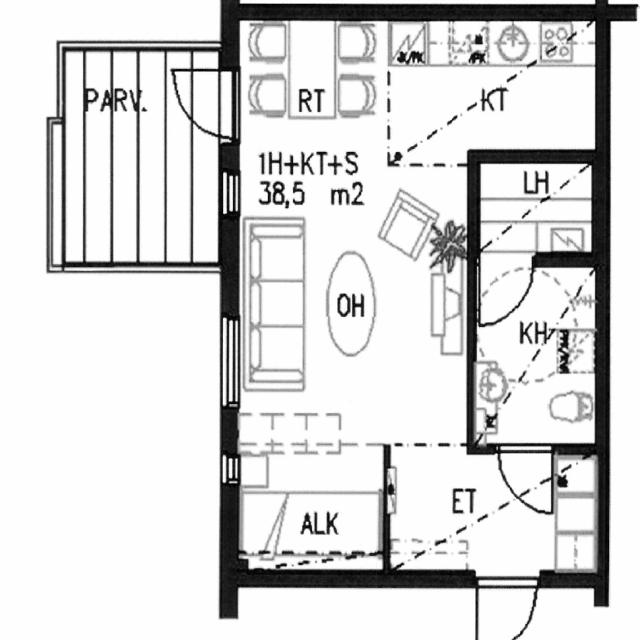door: (162, 70, 238, 137), (475, 569, 536, 640), (498, 444, 552, 514), (480, 257, 532, 326)
